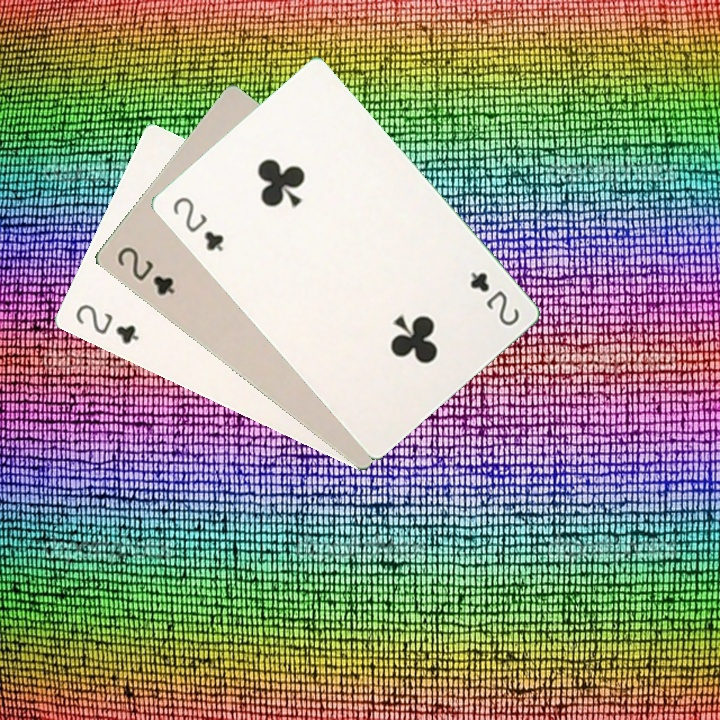2c: (168, 192, 227, 255), (113, 242, 177, 298), (466, 267, 522, 329), (71, 299, 142, 347)
